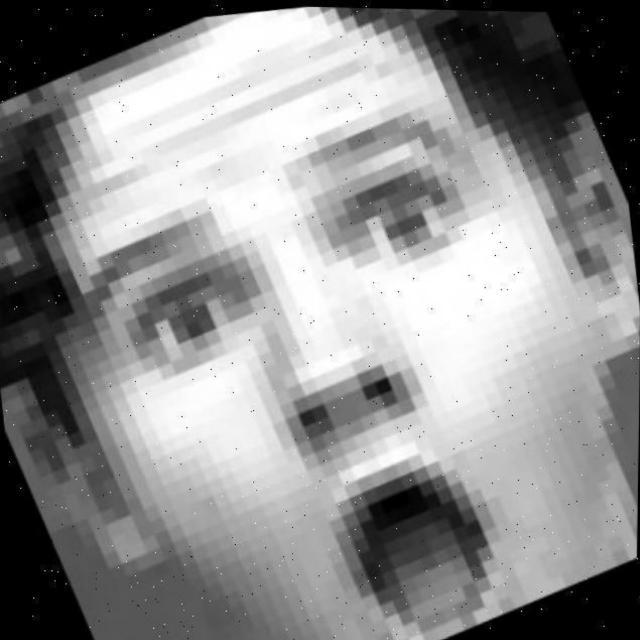surprised: (12, 73, 617, 640)
